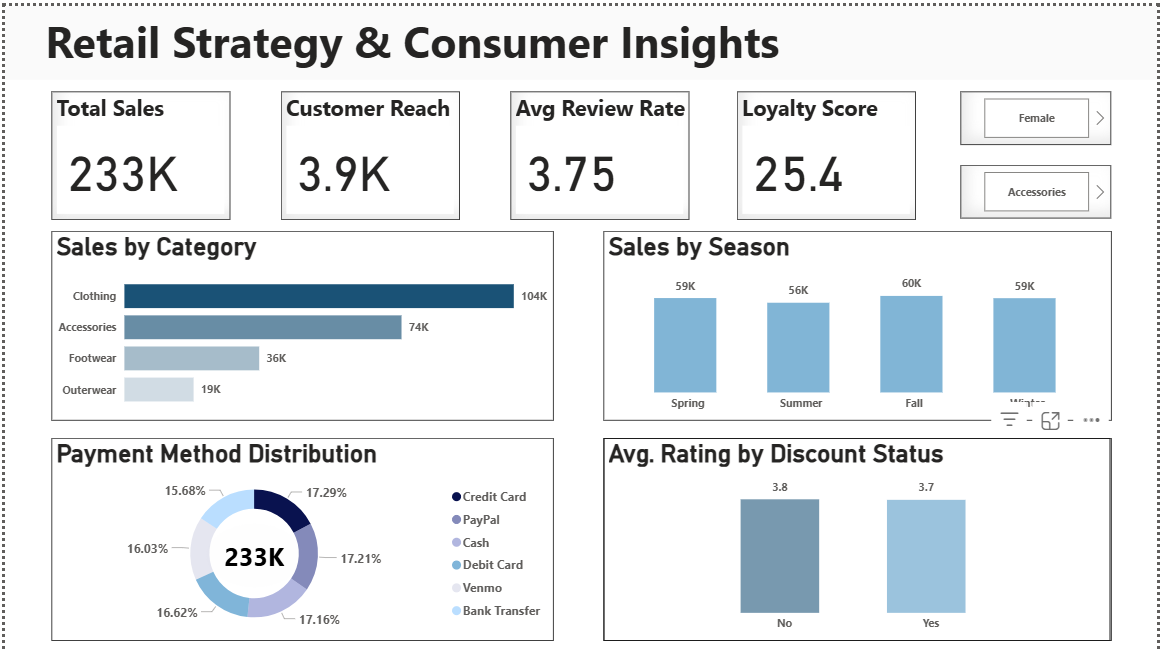

Layout of this report page (visuals, bound fields, positions):
{"tool":"powerbi","page":{"name":"Page 1","canvas":[1280,720],"ordinal":0},"visuals":[{"type":"textbox","box":[0,0,1280.5,81.2],"z":1},{"type":"cardVisual","title":"Total Sales","fields":{"Data":["Sum(public customer_behavior.purchase_amount)"]},"box":[51.4,94.4,198.8,142.5],"z":2},{"type":"cardVisual","title":"Customer Reach","fields":{"Data":["public customer_behavior.No.of customers"]},"box":[306.4,94.4,198.8,142.5],"z":3},{"type":"cardVisual","title":"Avg Review Rate","fields":{"Data":["public customer_behavior.Avg review rating"]},"box":[561.5,94.4,198.8,142.5],"z":4},{"type":"cardVisual","title":"Loyalty Score","fields":{"Data":["public customer_behavior.avg previous purchases"]},"box":[813.3,94.4,198.8,142.5],"z":5},{"type":"clusteredBarChart","title":"Sales by Category","fields":{"Y":["Sum(public customer_behavior.purchase_amount)"],"Category":["public customer_behavior.category"]},"box":[51.4,250.1,558.2,210.4],"z":6},{"type":"clusteredColumnChart","title":"Sales by Season","fields":{"Y":["Sum(public customer_behavior.purchase_amount)"],"Category":["public customer_behavior.season"]},"box":[664.2,250.1,564.9,210.4],"z":7},{"type":"donutChart","title":"Payment Method Distribution","fields":{"Category":["public customer_behavior.payment_method"],"Y":["Sum(public customer_behavior.purchase_amount)"]},"box":[51.4,480.4,558.2,225.3],"z":8},{"type":"shape","box":[223.6,574.8,107.7,71.2],"z":9},{"type":"clusteredColumnChart","title":"Avg. Rating by Discount Status","fields":{"Y":["public customer_behavior.Avg review rating"],"Category":["public customer_behavior.discount_applied"]},"box":[664.2,480.4,564.9,225.3],"z":10},{"type":"slicer","fields":{"Values":["public customer_behavior.gender"]},"box":[1061.8,94.4,167.3,59.6],"z":11},{"type":"slicer","fields":{"Values":["public customer_behavior.category"]},"box":[1061.8,177.2,167.3,59.6],"z":12}]}

Visuals, with their boxes in screenshot pixels (x1, y1, x2, y2), scaled from the page's 1280x720 canvas onto the 1164x651 screenshot:
textbox: region(0, 0, 1163, 73)
"Total Sales" cardVisual: region(47, 85, 228, 214)
"Customer Reach" cardVisual: region(279, 85, 459, 214)
"Avg Review Rate" cardVisual: region(511, 85, 691, 214)
"Loyalty Score" cardVisual: region(740, 85, 920, 214)
"Sales by Category" clusteredBarChart: region(47, 226, 554, 416)
"Sales by Season" clusteredColumnChart: region(604, 226, 1118, 416)
"Payment Method Distribution" donutChart: region(47, 434, 554, 638)
shape: region(203, 520, 301, 584)
"Avg. Rating by Discount Status" clusteredColumnChart: region(604, 434, 1118, 638)
slicer - public customer_behavior.gender: region(966, 85, 1118, 139)
slicer - public customer_behavior.category: region(966, 160, 1118, 214)
